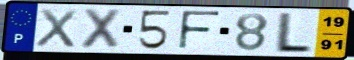5: (137, 9, 174, 51)
8: (232, 10, 271, 53)
F: (176, 9, 223, 52)
L: (271, 11, 315, 55)
X: (78, 7, 124, 51), (34, 7, 79, 49)
